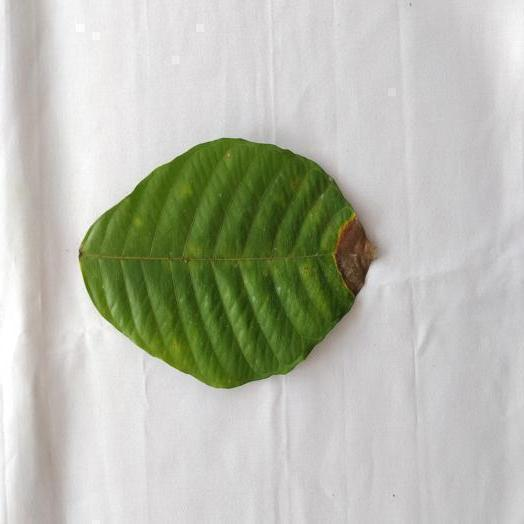Potassium: (80, 138, 373, 387)
